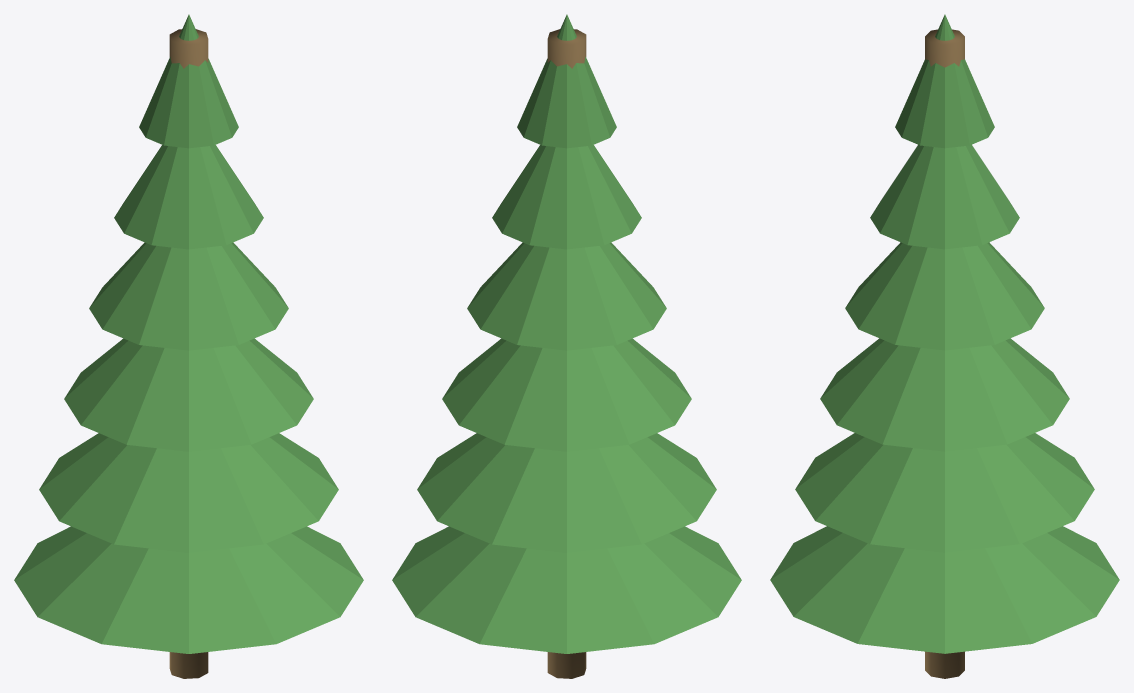
Rendered from pine.glb.
3 views of the same model, side by side, from view 1: azimuth 30°, elevation 25°; view 2: azimuth 150°, elevation 25°; view 3: azimuth 270°, elevation 25° (orthographic).
Visible parts, largest first — view 1: Tier_0, Tier_1, Tier_2, Tier_3, Tier_4, Tier_5, Trunk; view 2: Tier_0, Tier_1, Tier_2, Tier_3, Tier_4, Tier_5, Trunk; view 3: Tier_0, Tier_1, Tier_2, Tier_3, Tier_4, Tier_5, Trunk.
Part boxes in pixels (left/top/right/bottom): Tier_0: left=14, top=526, right=363, bottom=653; Tier_1: left=39, top=433, right=338, bottom=552; Tier_2: left=64, top=338, right=313, bottom=451; Tier_3: left=89, top=242, right=288, bottom=350; Tier_4: left=114, top=145, right=263, bottom=249; Tier_5: left=139, top=14, right=238, bottom=148; Trunk: left=169, top=29, right=208, bottom=678; Tier_0: left=392, top=526, right=741, bottom=653; Tier_1: left=417, top=433, right=716, bottom=552; Tier_2: left=442, top=338, right=691, bottom=451; Tier_3: left=467, top=242, right=666, bottom=350; Tier_4: left=492, top=145, right=641, bottom=249; Tier_5: left=517, top=14, right=616, bottom=148; Trunk: left=547, top=29, right=586, bottom=678; Tier_0: left=770, top=526, right=1119, bottom=653; Tier_1: left=795, top=433, right=1094, bottom=552; Tier_2: left=820, top=338, right=1069, bottom=451; Tier_3: left=845, top=242, right=1044, bottom=350; Tier_4: left=870, top=145, right=1019, bottom=249; Tier_5: left=895, top=14, right=994, bottom=148; Trunk: left=925, top=29, right=964, bottom=678.
Size of what is drawn, in the model's own units: 7 by 14.5 by 7.
